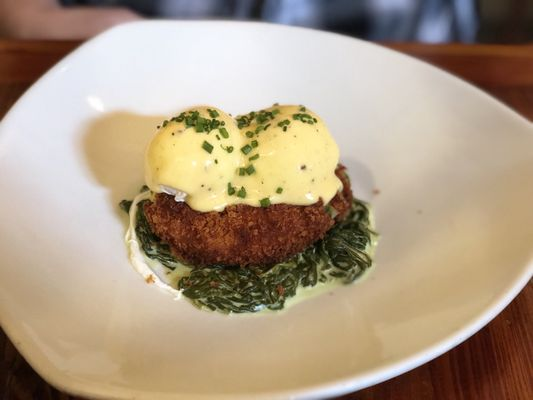soup: (126, 102, 378, 315)
